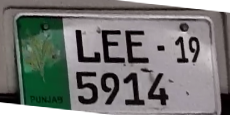1: (122, 71, 146, 107)
4: (147, 70, 170, 107)
5: (73, 70, 100, 107)
9: (100, 70, 122, 107)
E: (100, 27, 126, 65), (125, 27, 150, 65)
L: (71, 28, 102, 66)
